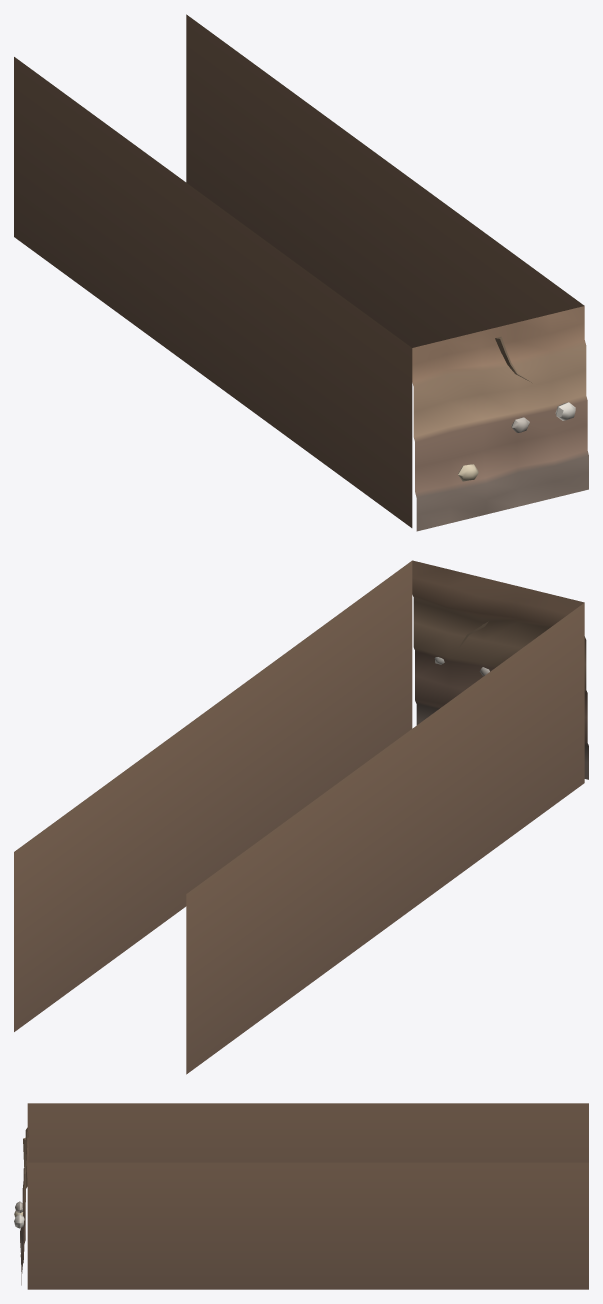
Rendered from groundlite_earth_1.glb.
3 renders of one model, top to bottom at view 1: azimuth 30°, elevation 25°; view 2: azimuth 150°, elevation 25°; view 3: azimuth 270°, elevation 25°, orthographic. The views are drawn at different scales.
Parts seen in each view (by area): view 1: groundlite_earth_1; view 2: groundlite_earth_1; view 3: groundlite_earth_1.
Part boxes in pixels (bbox=[...]): groundlite_earth_1: bbox=[14, 14, 588, 531]; groundlite_earth_1: bbox=[14, 560, 588, 1074]; groundlite_earth_1: bbox=[14, 1103, 588, 1289].
Size of the model in its own units: 1 by 1 by 4.1.
